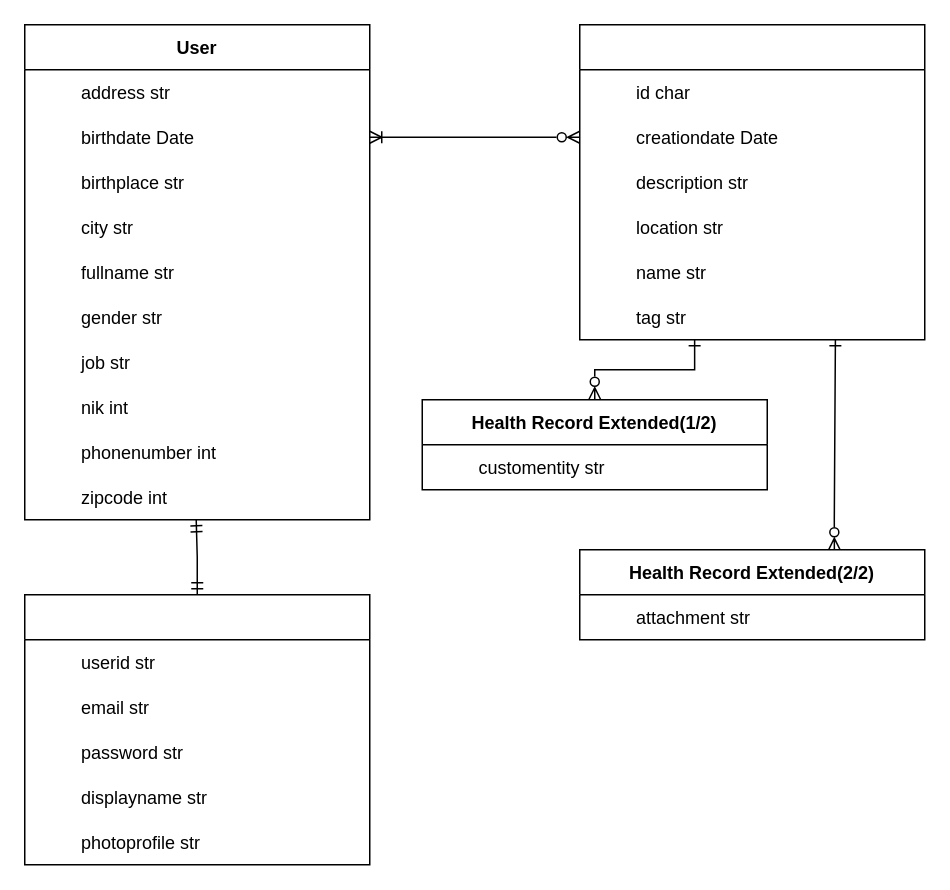
The diagram is 950 pixels wide and 890 high, and some of its shapes have lost their labels. Here are the shapes that lost their labels. From the top down, the box of each, then its label:
(578, 23, 925, 340): Health Record
(23, 593, 370, 865): Account
